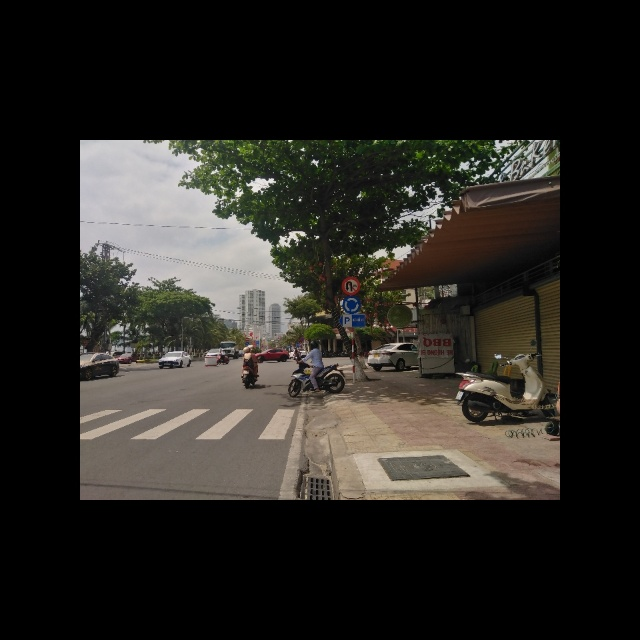Cấm xe ô tô quay đầu: (341, 296, 360, 315)
Nơi giao nhau chạy theo vòng xuyến: (341, 278, 360, 296)
Nơi đỗ xe: (337, 315, 365, 328)
